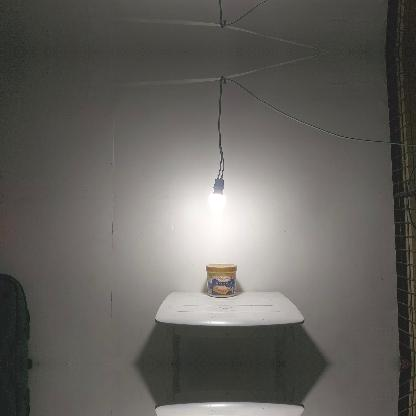Lady-s-Choice: (205, 263, 237, 297)
